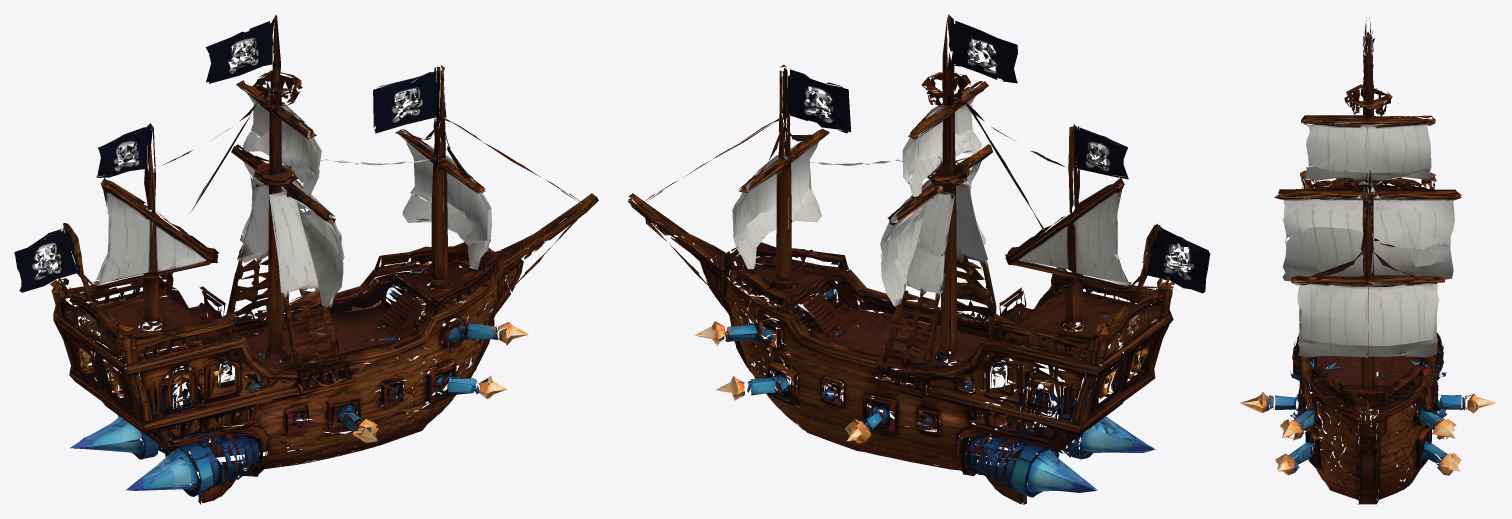
Rendered from ship_3d_gameready.glb.
3 views of the same model, side by side, from view 1: azimuth 30°, elevation 25°; view 2: azimuth 150°, elevation 25°; view 3: azimuth 270°, elevation 25° (orthographic). The views are drawn at different scales.
Parts seen in each view (by area): view 1: material; view 2: material; view 3: material.
Part boxes in pixels (x1,y1,x2,y2): material: [14, 14, 598, 504]; material: [627, 14, 1210, 504]; material: [1240, 17, 1497, 504].
Bounding box in the file's own units: 1.18 × 0.9119 × 0.4881.
1 material, 1 textured.
